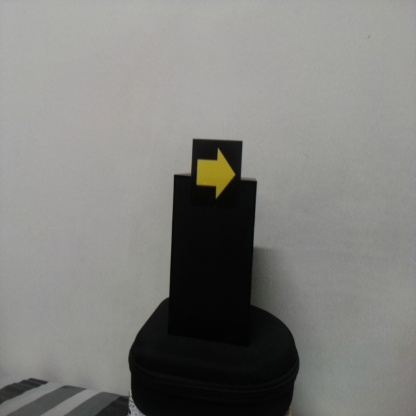id_3: (192, 141, 242, 206)
